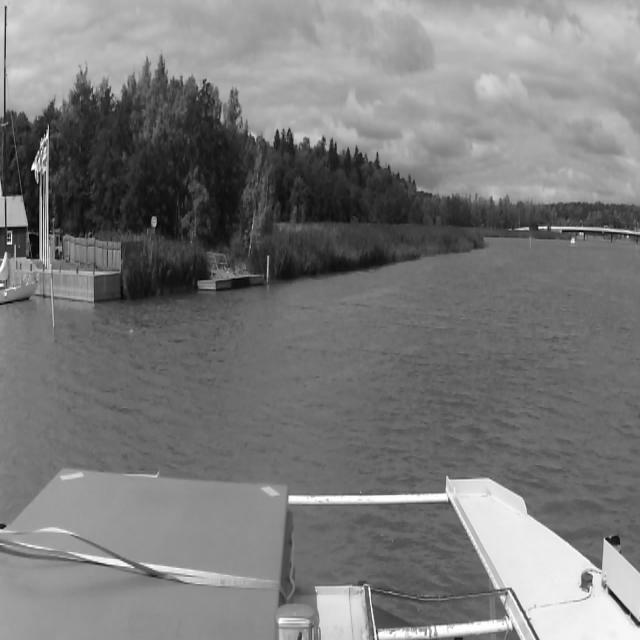buoy: (46, 265, 56, 328)
